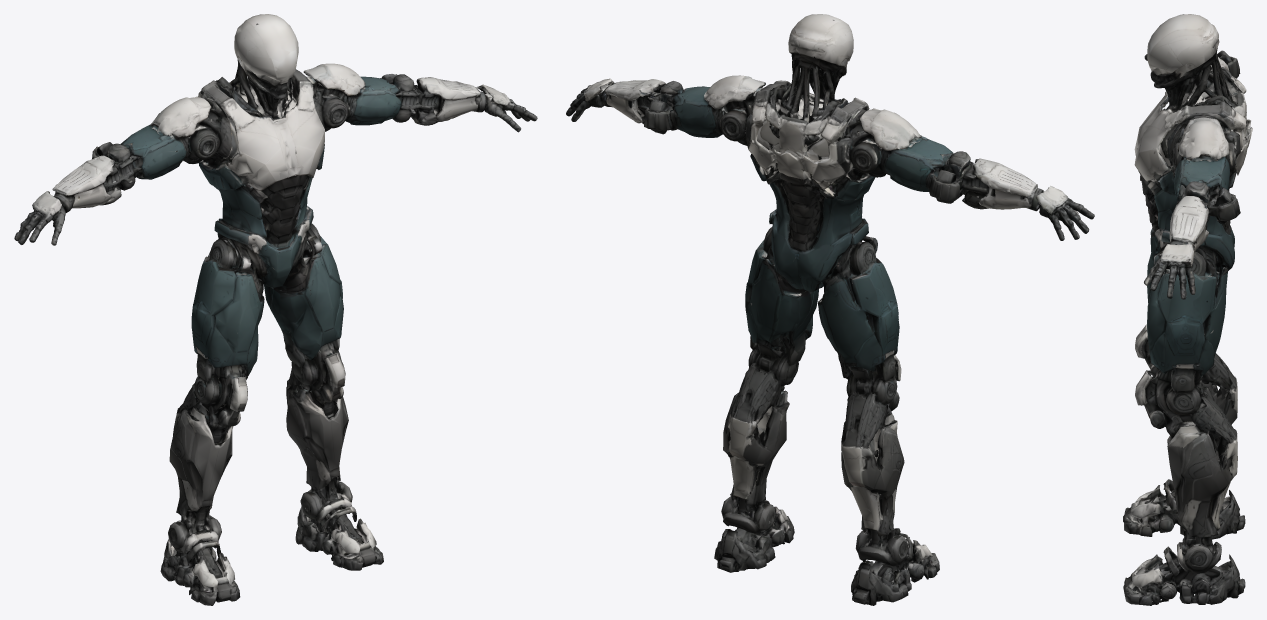
File: Robot_80K.fbx
3 renders of one model, left to right at view 1: azimuth 30°, elevation 25°; view 2: azimuth 150°, elevation 25°; view 3: azimuth 270°, elevation 25°, orthographic.
Visible parts, largest first — view 1: Robot_LOD80K_Quality; view 2: Robot_LOD80K_Quality; view 3: Robot_LOD80K_Quality.
Part boxes in pixels (x1=…): Robot_LOD80K_Quality: x1=14, y1=14, x2=537, y2=605; Robot_LOD80K_Quality: x1=566, y1=14, x2=1094, y2=605; Robot_LOD80K_Quality: x1=1123, y1=14, x2=1252, y2=605.
Size of the model in its own units: 97.79 by 99.68 by 21.58.
